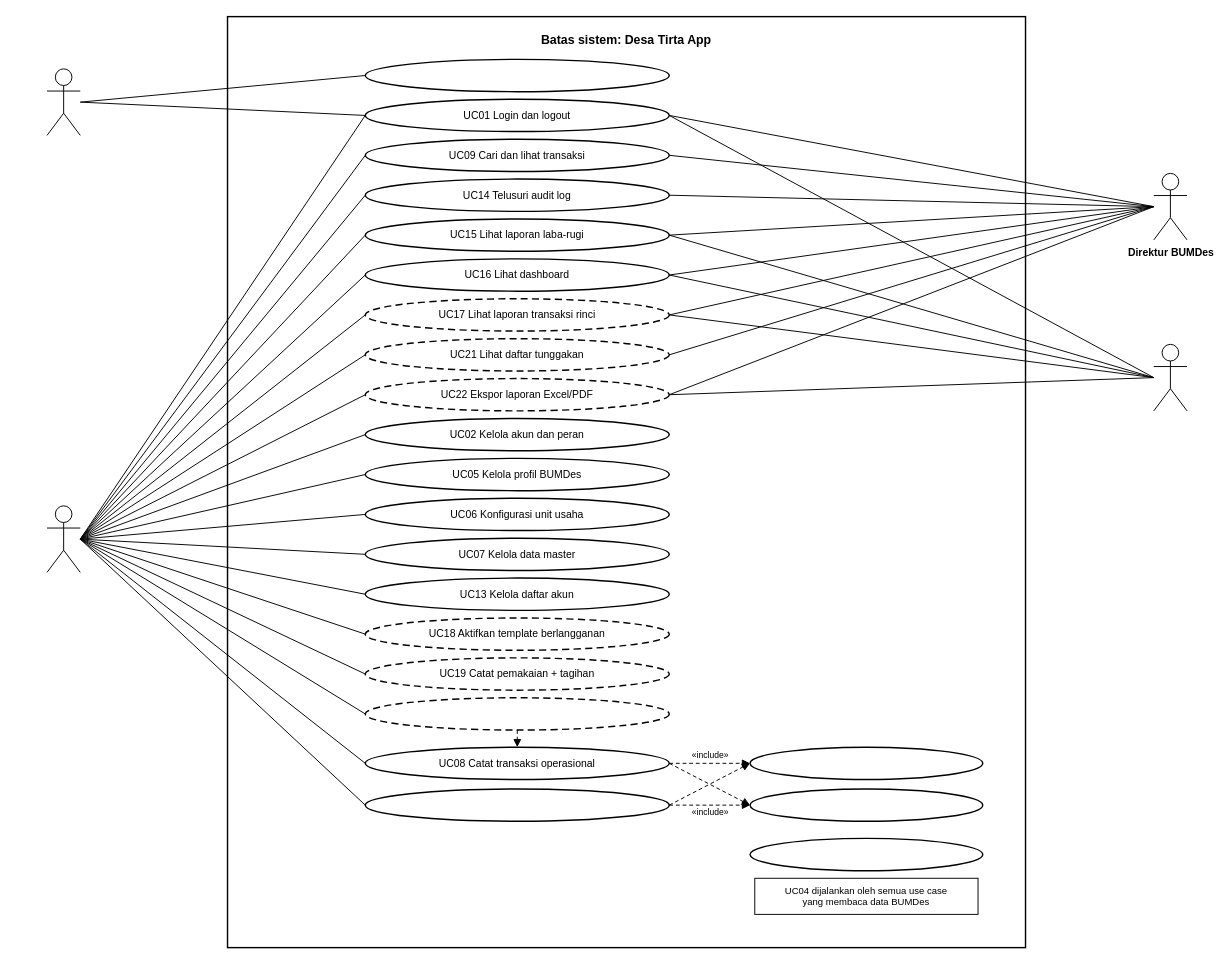
The diagram is 1229 pixels wide and 965 high, and some of its shapes have lost their labels. The shapes that lost their labels are listed below. From the top down, each one's centre as x and y in pixels, then its label:
the point at 517,75: UC03 Daftarkan BUMDes baru
the point at 63,101: Admin Platform
the point at 1170,377: Pemerintah Desa
the point at 63,538: Pengelola BUMDes
the point at 517,713: UC20 Catat pembayaran tagihan
the point at 866,763: UC11 Buat jurnal otomatis
the point at 517,805: UC10 Ubah atau batalkan transaksi
the point at 866,805: UC12 Catat audit log
the point at 866,854: UC04 Isolasi data antar BUMDes
